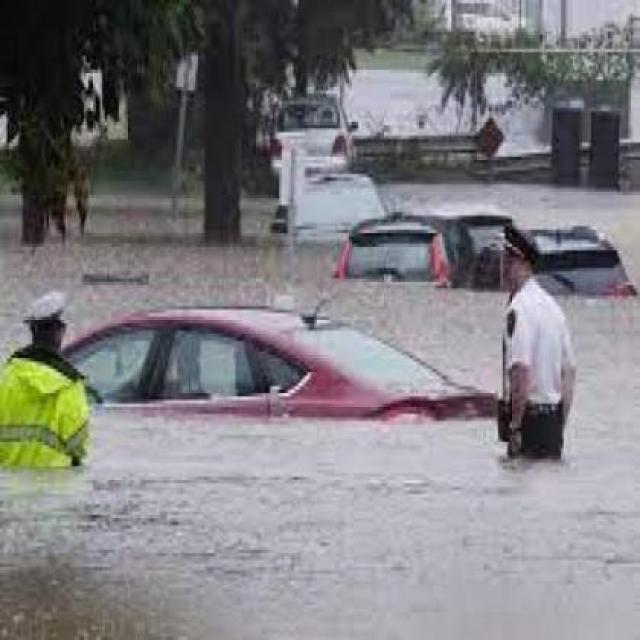water: (1, 184, 639, 639), (0, 185, 510, 396), (343, 70, 550, 157), (532, 73, 638, 150), (482, 74, 512, 104)
